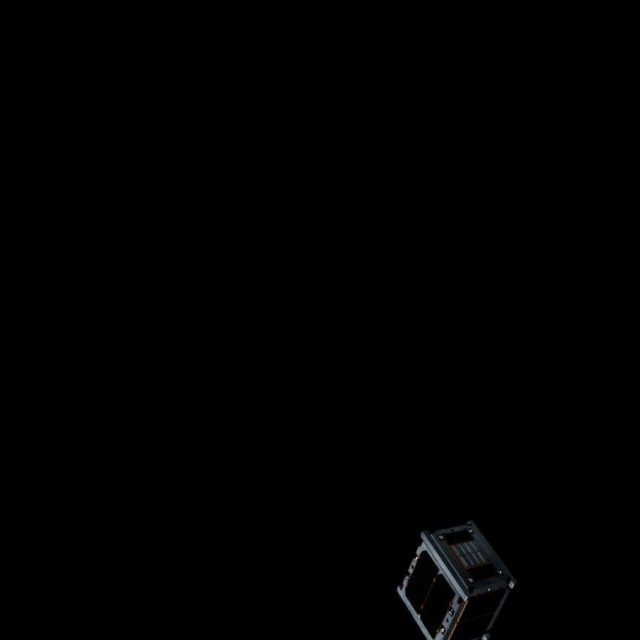satellite: (385, 508, 526, 640)
